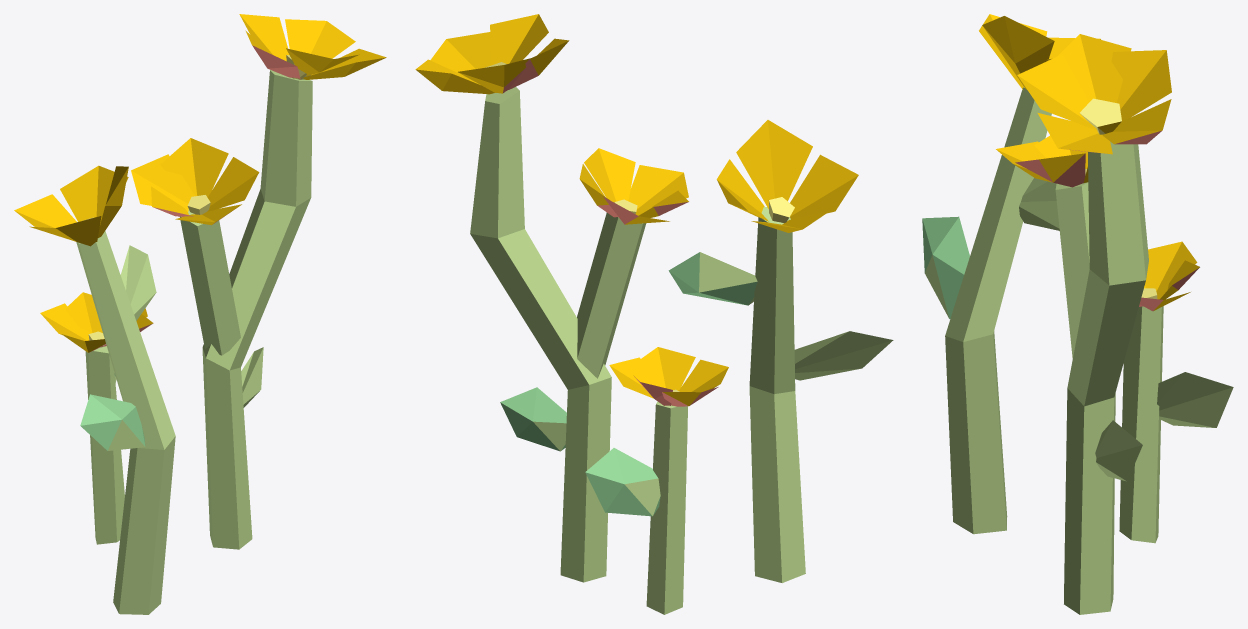
Rendered from SaffyOrange.fbx.
3 renders of one model, left to right at view 1: azimuth 30°, elevation 25°; view 2: azimuth 150°, elevation 25°; view 3: azimuth 270°, elevation 25°, orthographic. The views are drawn at different scales.
Parts seen in each view (by area): view 1: group1882391129, group963079866, group1099728506; view 2: group1882391129, group963079866, group1099728506; view 3: group1882391129, group963079866, group1099728506.
Boxes of the visible parts, <box> form: group1882391129: <box>131,14,386,549</box>; group963079866: <box>14,165,175,614</box>; group1099728506: <box>40,292,153,544</box>; group1882391129: <box>415,14,688,582</box>; group963079866: <box>668,120,893,582</box>; group1099728506: <box>585,347,728,614</box>; group1882391129: <box>996,34,1171,614</box>; group963079866: <box>922,14,1100,534</box>; group1099728506: <box>1119,241,1233,543</box>.
Bounding box in the file's own units: 91.23 × 118 × 57.45.
